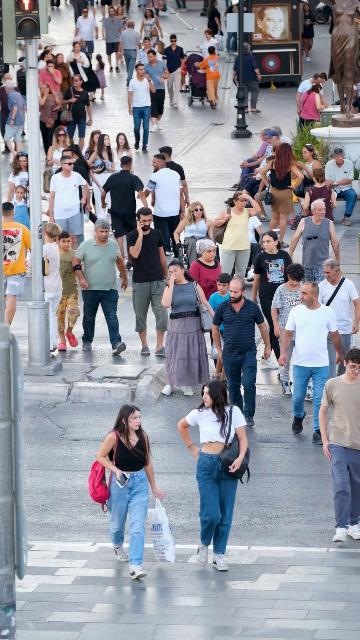person: (177, 378, 249, 572), (96, 404, 165, 581), (279, 282, 343, 445), (212, 277, 272, 429), (318, 348, 360, 543), (72, 219, 128, 356), (160, 259, 215, 397), (126, 207, 170, 358), (271, 263, 315, 402), (251, 231, 293, 372), (101, 156, 148, 270), (317, 258, 360, 378), (256, 143, 304, 247), (288, 198, 341, 286), (213, 190, 262, 279), (143, 155, 183, 259), (48, 156, 92, 249), (2, 202, 31, 338), (224, 197, 263, 283), (231, 155, 276, 222), (53, 148, 93, 223), (173, 201, 216, 270), (56, 230, 80, 352), (227, 128, 273, 191), (42, 222, 63, 357), (322, 148, 358, 226), (207, 273, 232, 383), (128, 64, 156, 154), (140, 50, 170, 132), (62, 74, 93, 151), (188, 238, 222, 303), (160, 146, 190, 218), (2, 81, 27, 165), (8, 152, 48, 203), (233, 47, 262, 114), (68, 144, 106, 195), (303, 168, 337, 223), (39, 83, 63, 159), (248, 128, 281, 182), (296, 73, 327, 129), (162, 34, 185, 109), (194, 46, 220, 110), (117, 22, 142, 88), (87, 134, 115, 189), (101, 7, 123, 74), (73, 7, 99, 60), (299, 83, 327, 132), (293, 144, 323, 188), (46, 127, 71, 176), (66, 41, 91, 87), (7, 186, 30, 232), (110, 132, 134, 175), (135, 37, 157, 80), (139, 8, 163, 46), (38, 59, 63, 93), (196, 28, 224, 57), (81, 130, 103, 164), (55, 54, 73, 94), (92, 54, 107, 100), (207, 0, 222, 37), (37, 49, 54, 78), (270, 125, 292, 147), (77, 37, 88, 53), (42, 45, 53, 55)
